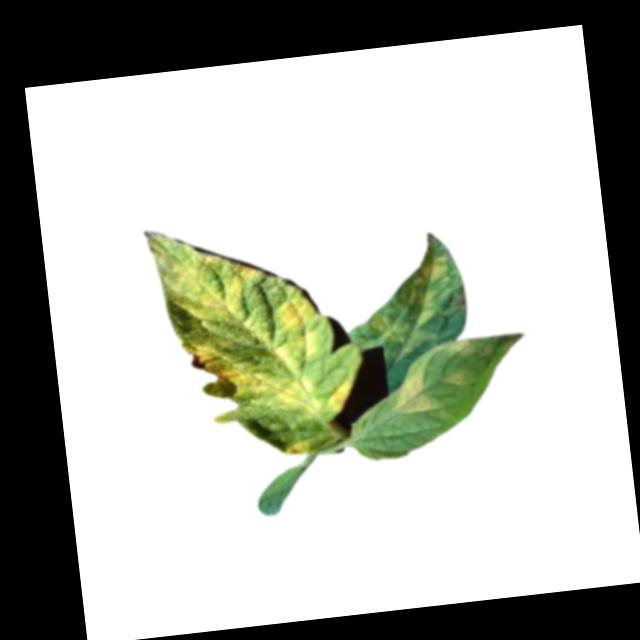Leaf_Mold: (141, 210, 362, 470), (359, 240, 462, 361), (386, 360, 437, 417), (439, 366, 474, 391)
